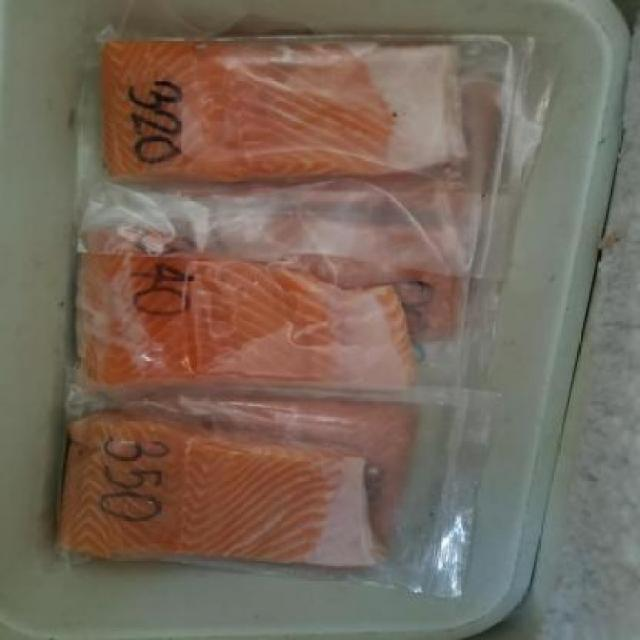Salmon: (32, 223, 448, 422), (73, 20, 476, 205), (40, 396, 413, 586)
